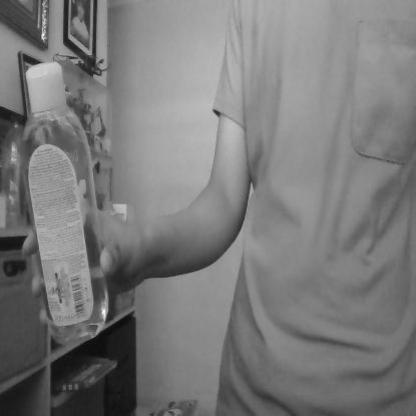Plastic Bottle: (18, 48, 109, 346)
